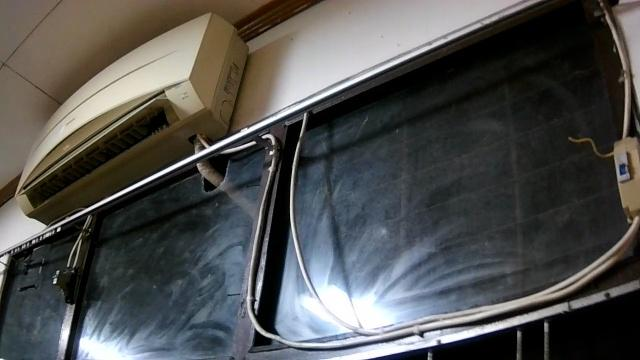AC: (13, 9, 249, 227)
